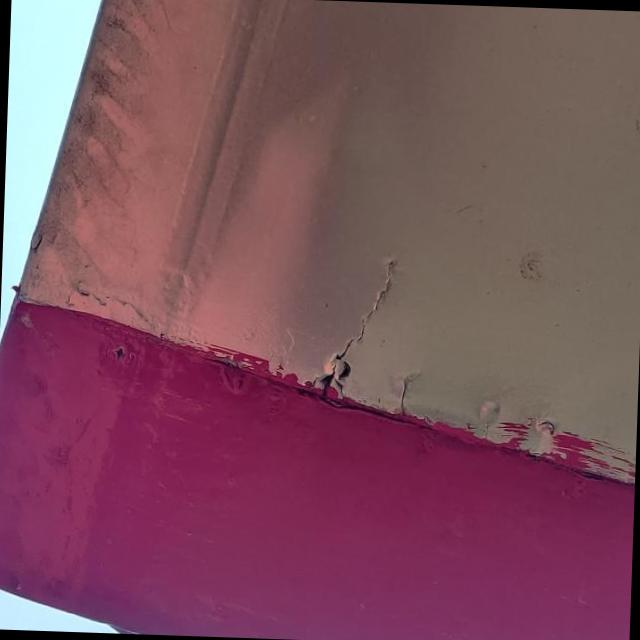Crack: (307, 259, 396, 398), (389, 370, 421, 414)
